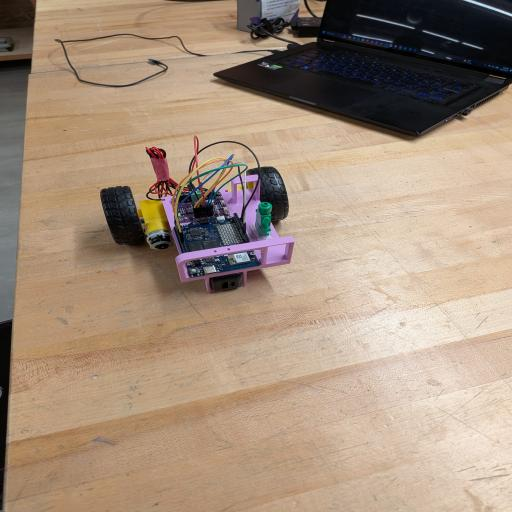Minifig: (255, 202, 272, 236)
